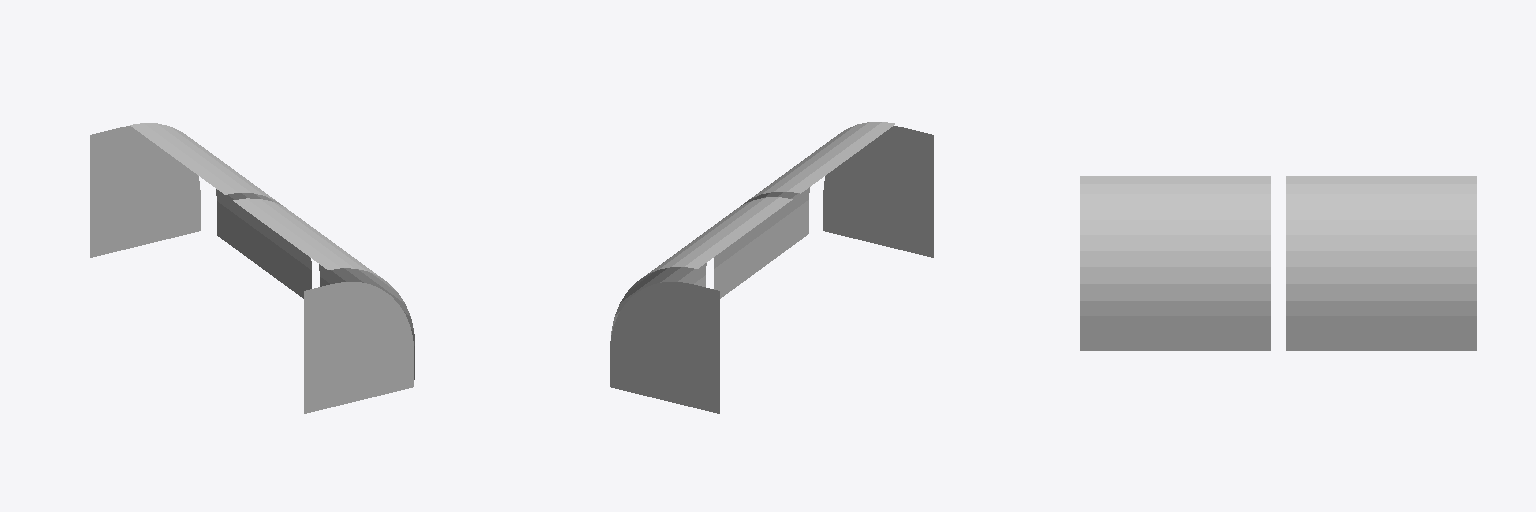
The model's file is VidriosVitrina.obj.
3 views of the same model, side by side, from view 1: azimuth 30°, elevation 25°; view 2: azimuth 150°, elevation 25°; view 3: azimuth 270°, elevation 25° (orthographic).
Visible parts, largest first — view 1: polySurface6593; view 2: polySurface6593; view 3: polySurface6593.
Part boxes in pixels (left/top/right/bottom): polySurface6593: left=90, top=123, right=414, bottom=413; polySurface6593: left=610, top=122, right=933, bottom=413; polySurface6593: left=1080, top=176, right=1476, bottom=350.
Size of the model in its own units: 0.92 by 0.9774 by 2.87.